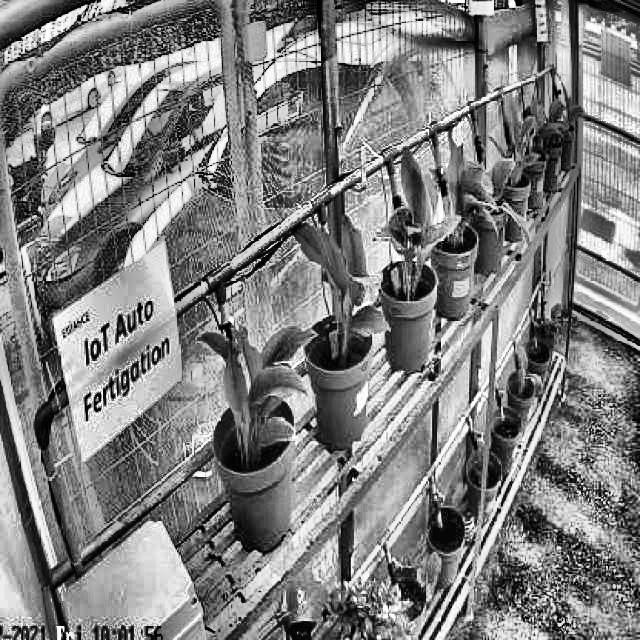plants: (196, 323, 318, 445), (292, 217, 388, 346), (376, 146, 458, 288), (446, 131, 500, 240), (512, 99, 538, 181), (560, 76, 585, 132)
